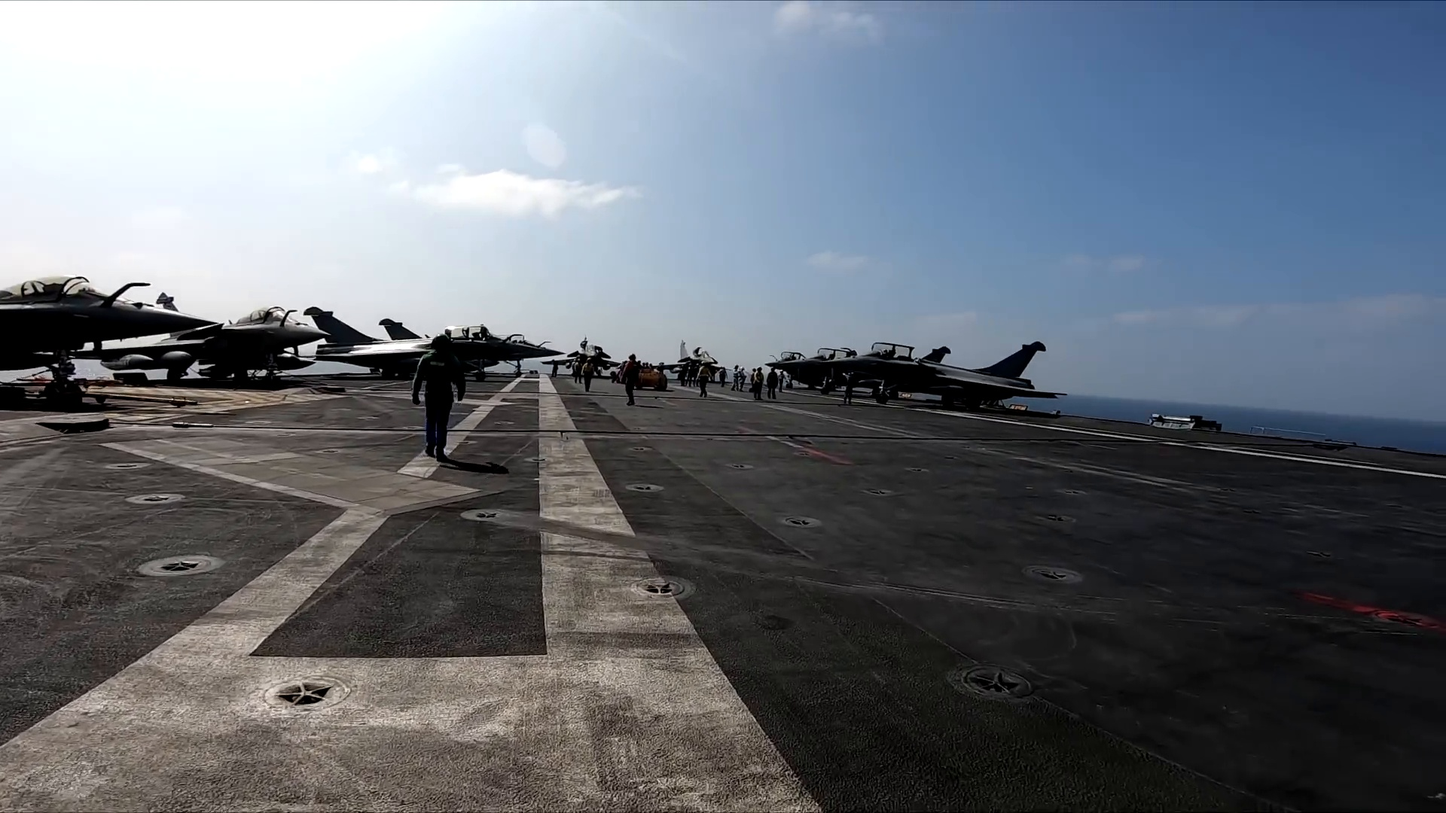Rafale: (0, 275, 219, 407), (304, 308, 554, 385), (156, 291, 331, 386), (824, 340, 1067, 407), (650, 340, 734, 386)
